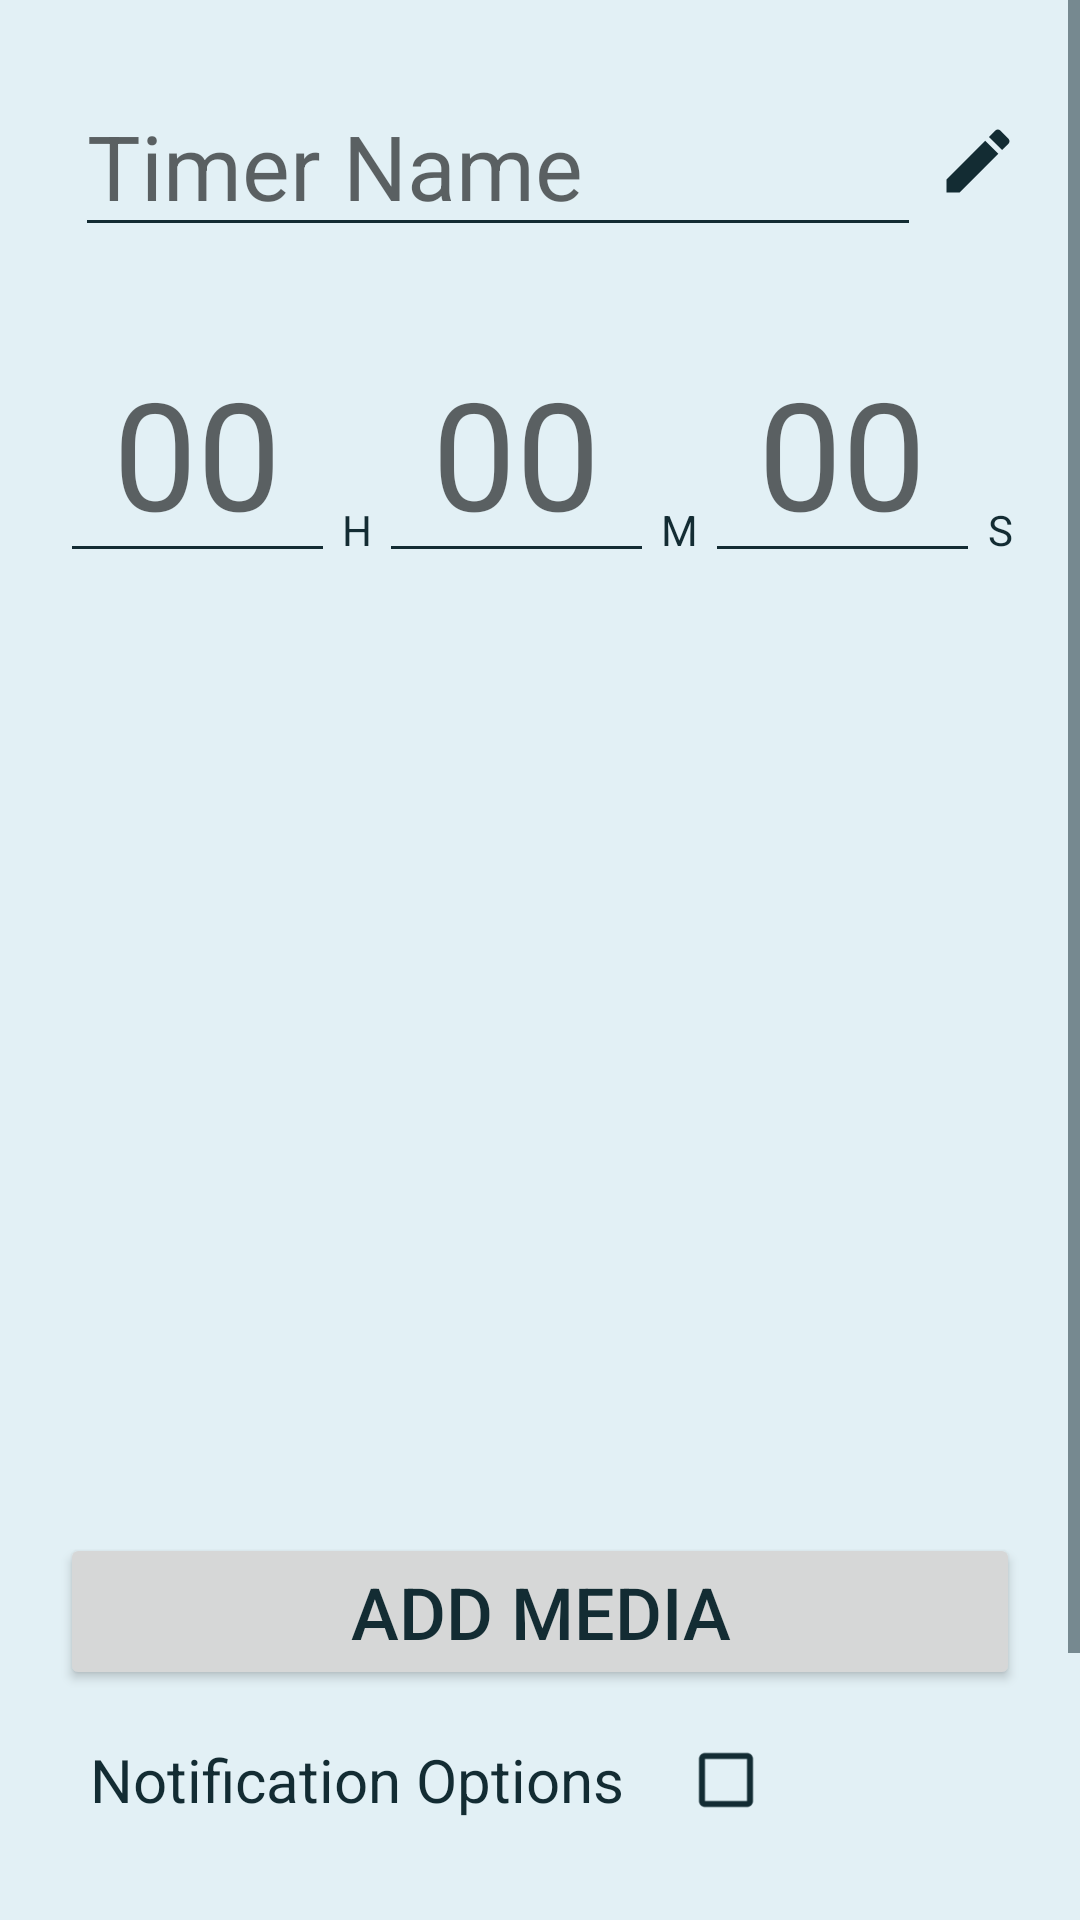

Where to tap for icons on this 1080px x 1920px app screen, as (x=x, y=y):
edit text indicator: (x=978, y=161)
